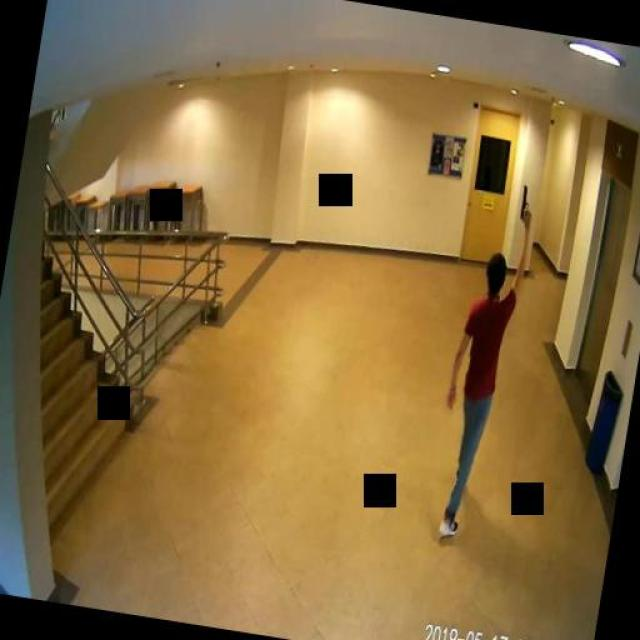gun: (516, 182, 536, 222)
